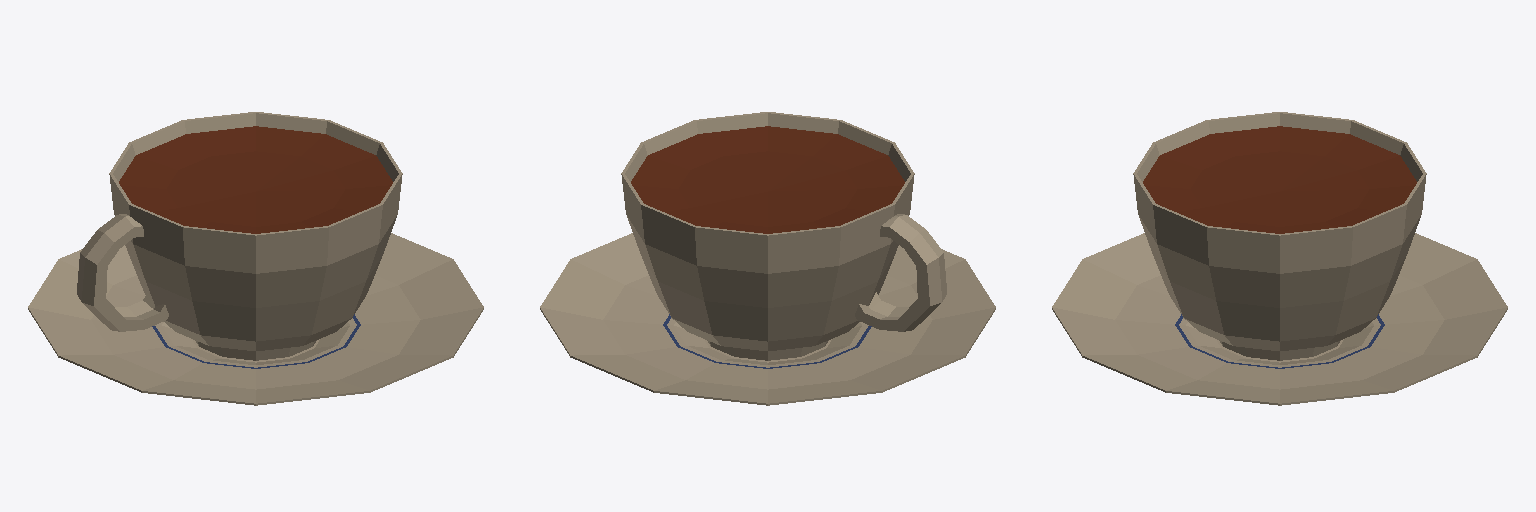
Rendered from teacupedit.obj.
3 renders of one model, left to right at view 1: azimuth 30°, elevation 25°; view 2: azimuth 150°, elevation 25°; view 3: azimuth 270°, elevation 25°, orthographic.
Visible parts, largest first — view 1: teacup; view 2: teacup; view 3: teacup.
Boxes of the visible parts, <box> form: teacup: <box>28,112,483,405</box>; teacup: <box>540,112,995,405</box>; teacup: <box>1052,112,1507,405</box>.
Size of the model in its own units: 5.64 by 2.25 by 5.64.